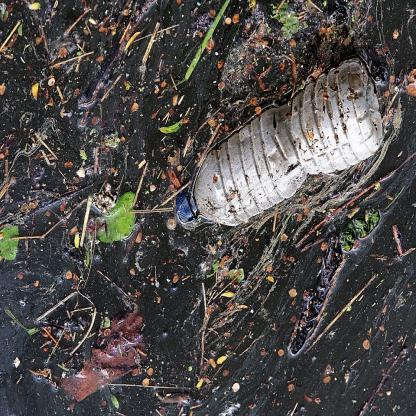Plastic: (170, 53, 387, 235)
